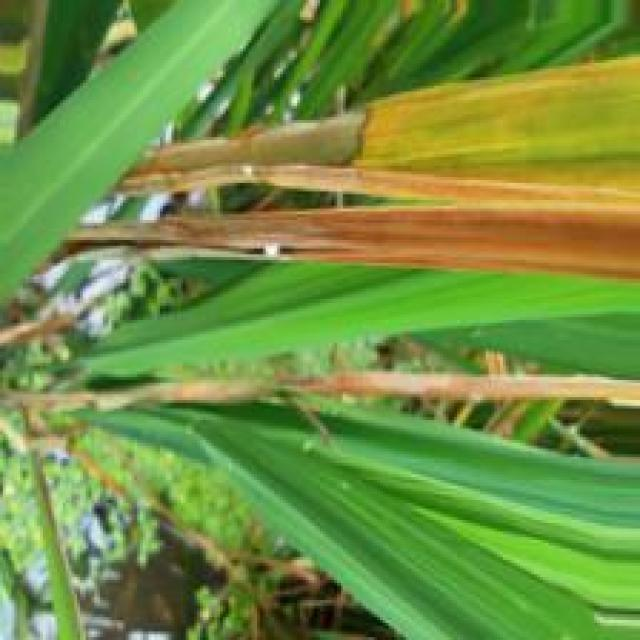Rice False Smut: (121, 107, 640, 282)
